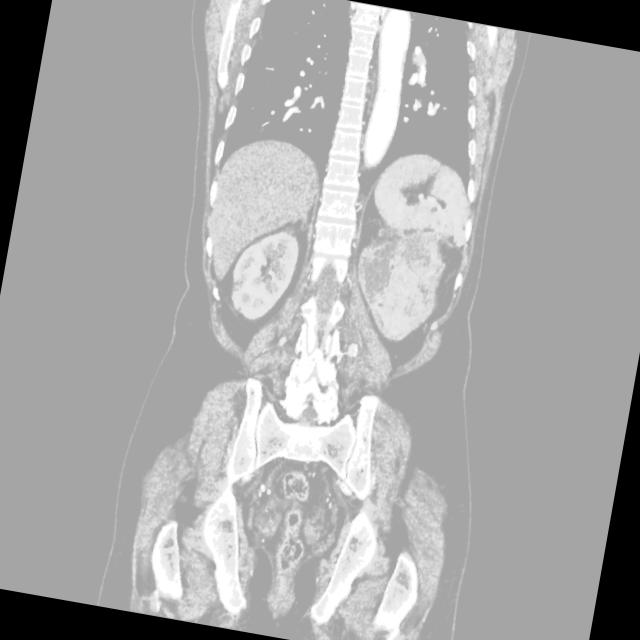TUMOR: (137, 76, 566, 400)
